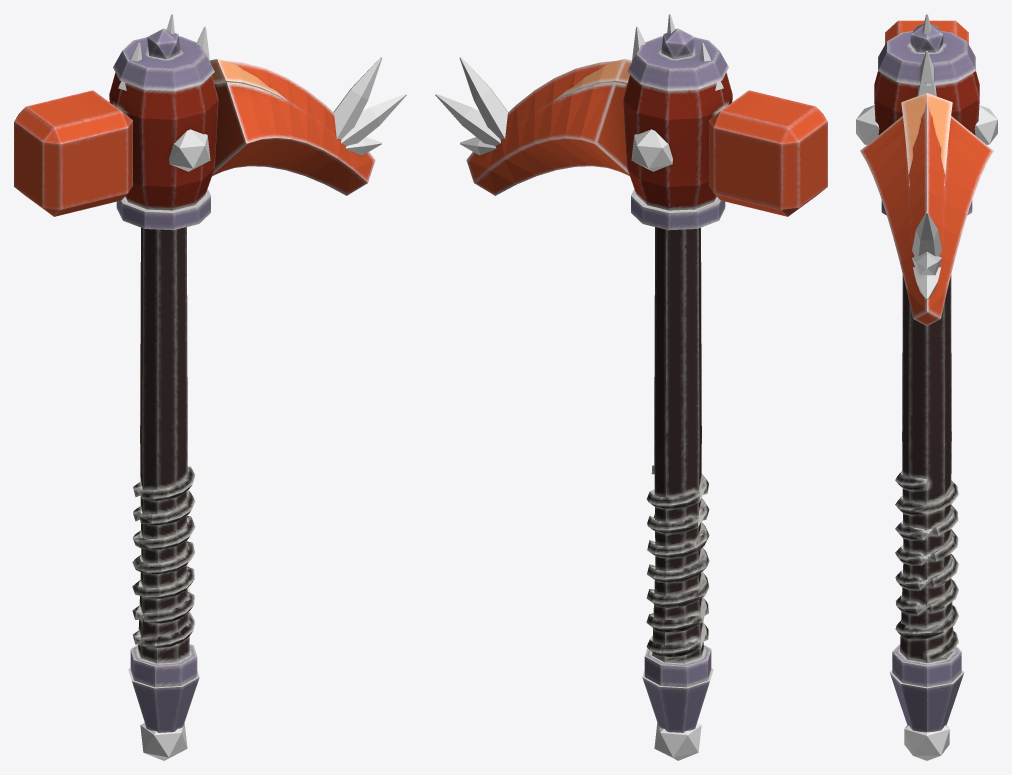
The model's file is EmberPickaxe.glb.
3 renders of one model, left to right at view 1: azimuth 30°, elevation 25°; view 2: azimuth 150°, elevation 25°; view 3: azimuth 270°, elevation 25°, orthographic.
Visible parts, largest first — view 1: Body__Tex, Head__Accent, Head__Gem; view 2: Body__Tex, Head__Accent, Head__Gem; view 3: Body__Tex, Head__Accent, Head__Gem.
Boxes of the visible parts, x1=… form: Body__Tex: x1=14, y1=28, x2=375, y2=732; Head__Accent: x1=118, y1=14, x2=406, y2=155; Head__Gem: x1=140, y1=129, x2=210, y2=760; Body__Tex: x1=466, y1=28, x2=827, y2=732; Head__Accent: x1=435, y1=14, x2=723, y2=155; Head__Gem: x1=631, y1=129, x2=701, y2=760; Body__Tex: x1=860, y1=20, x2=993, y2=732; Head__Accent: x1=912, y1=14, x2=941, y2=299; Head__Gem: x1=856, y1=105, x2=997, y2=760.
Bounding box in the file's own units: 2.3 × 4.33 × 0.7412.
Materials: 1 (1 with a texture image).
